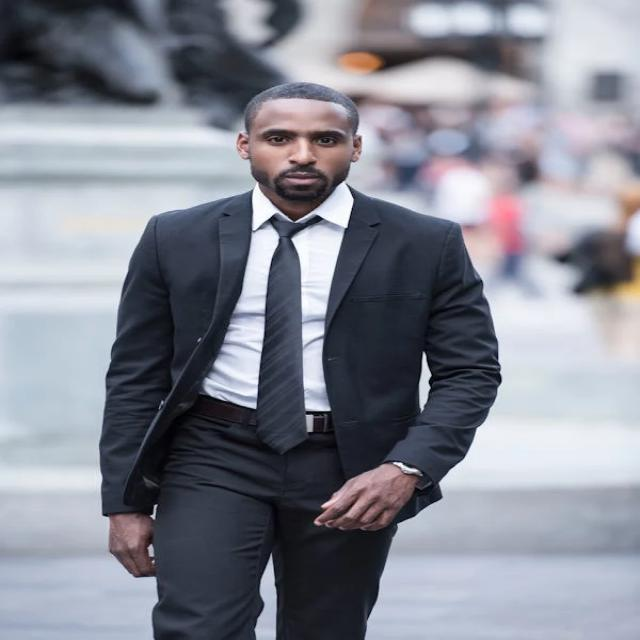Real human 2: (90, 71, 528, 640)
